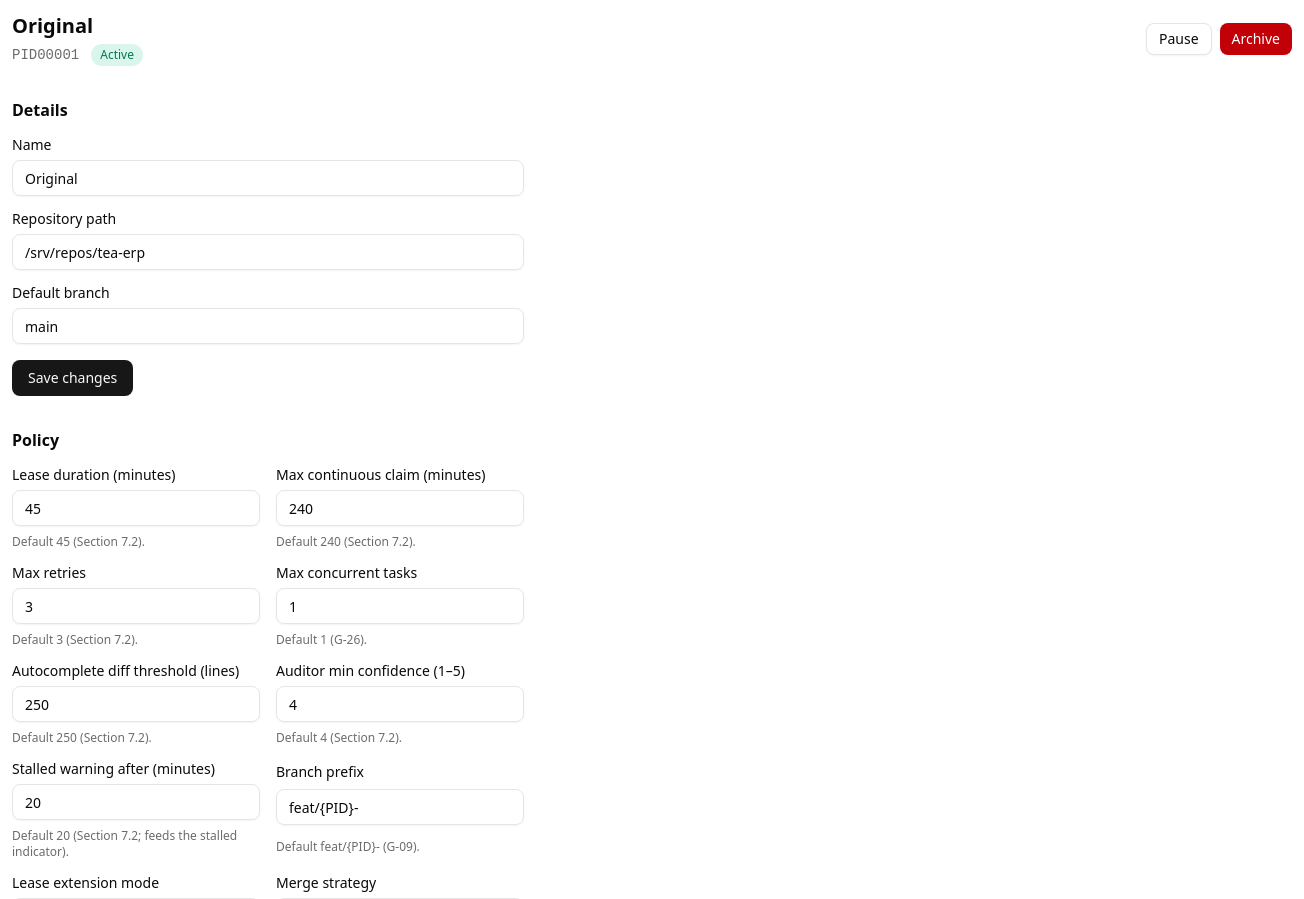
Scenario: EditProjectForm › rolls back to server truth with friendly copy on VERSION_CONFLICT
Replace the text in the field labelled "Name" with "Edited by me" at (268,178), box [12,160,524,196]
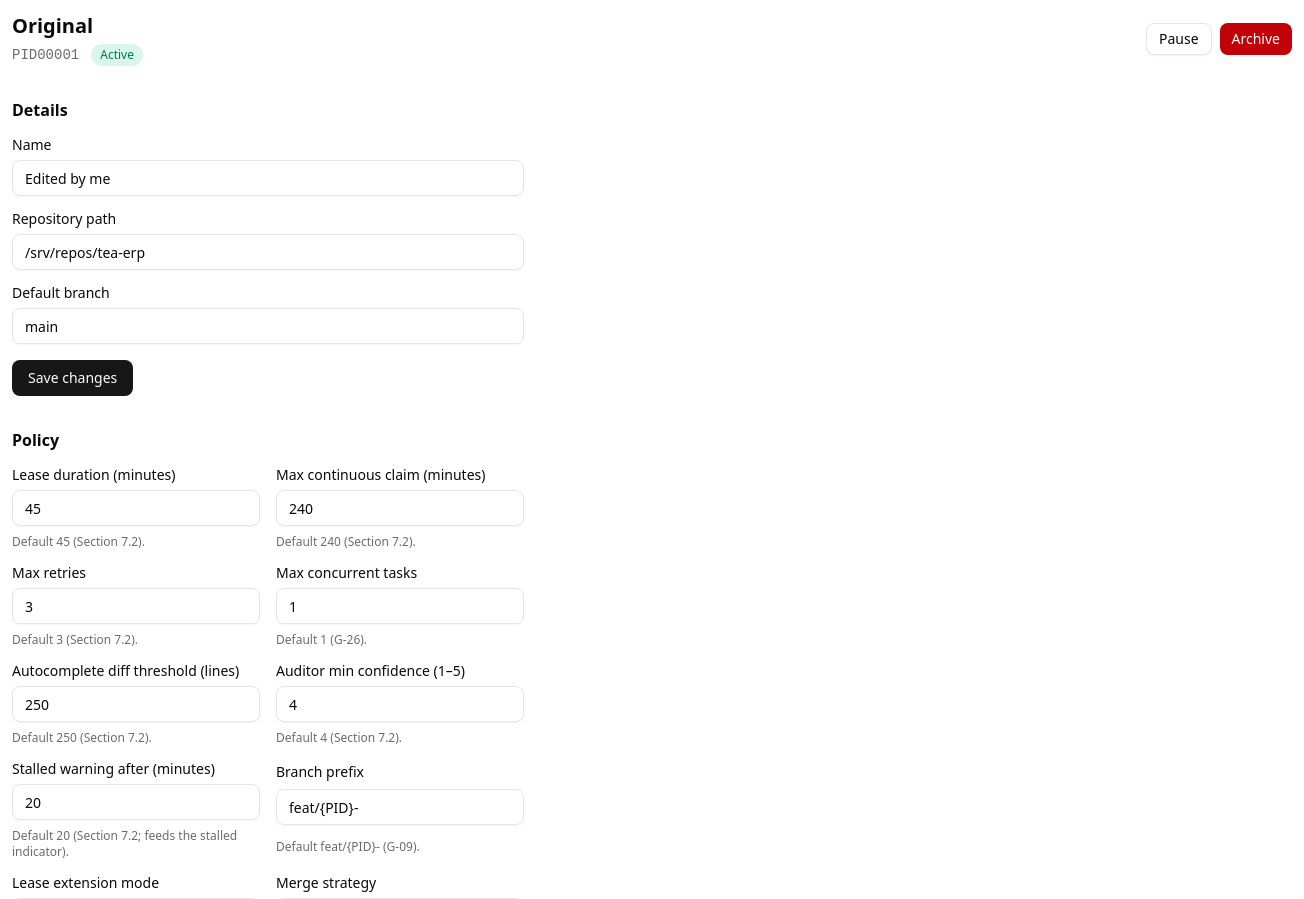
Click the button "Save changes" at (73,378), box [12,360,133,396]
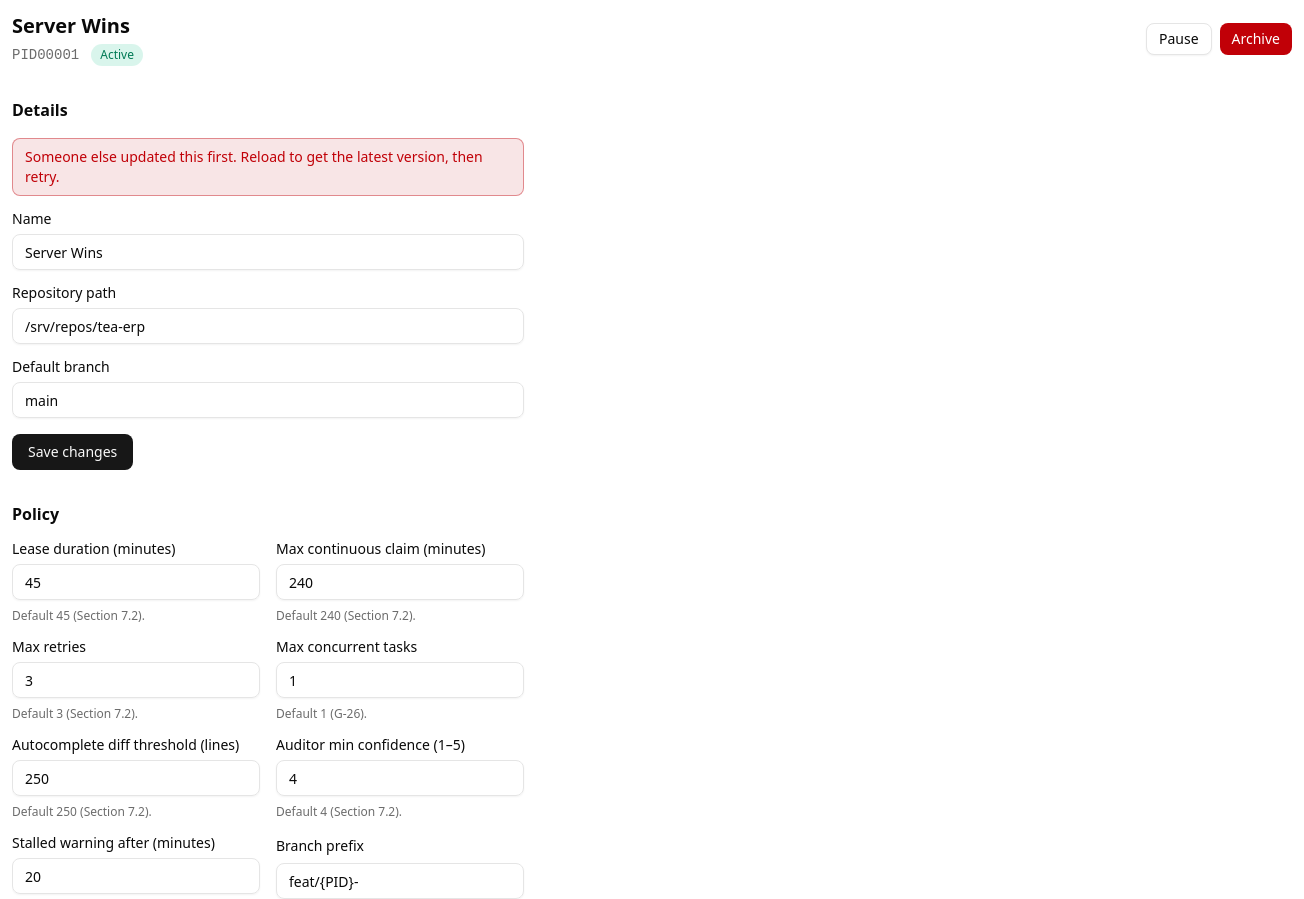
Now the text "Someone else updated this first. Reload to get the latest version, then retry." is shown, box [12,138,524,196]
Now the field labelled "Name" holds "Server Wins", box [12,234,524,270]
